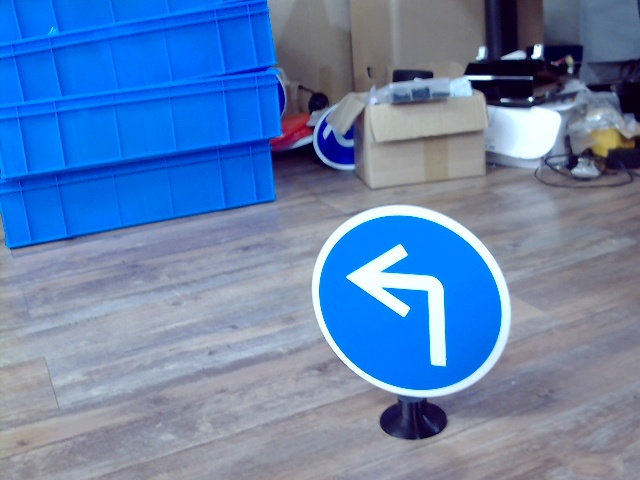turn_left: (347, 241, 458, 370)
